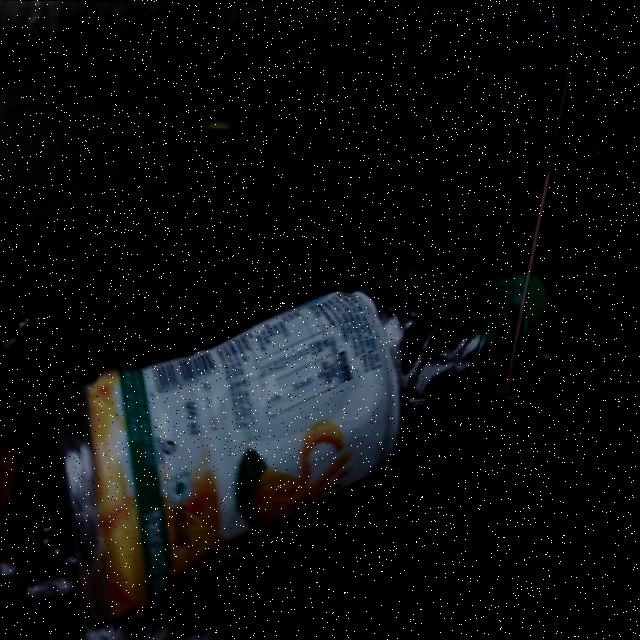leaf: (0, 423, 84, 617)
waterbottle: (59, 258, 565, 557)
